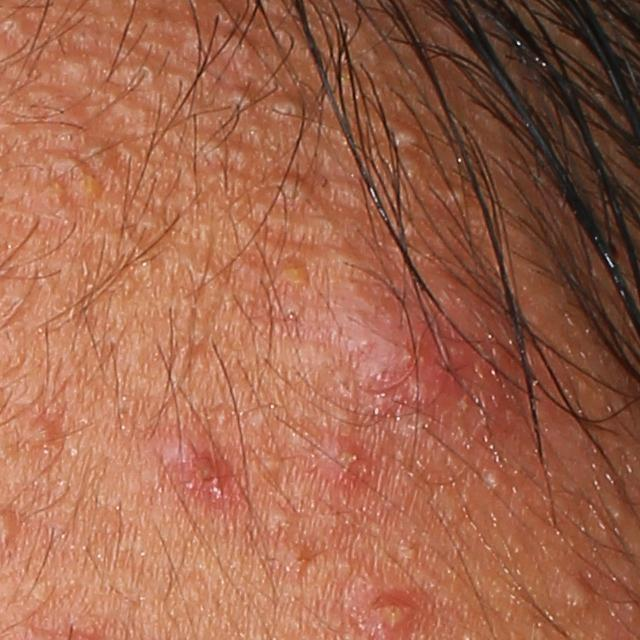comedo: (192, 135, 243, 171), (21, 404, 60, 449), (216, 29, 253, 69), (269, 172, 306, 211), (563, 573, 599, 610), (52, 53, 91, 87), (264, 507, 296, 542), (279, 547, 313, 576), (485, 466, 508, 495)
papule: (164, 433, 231, 503), (309, 424, 368, 490)
